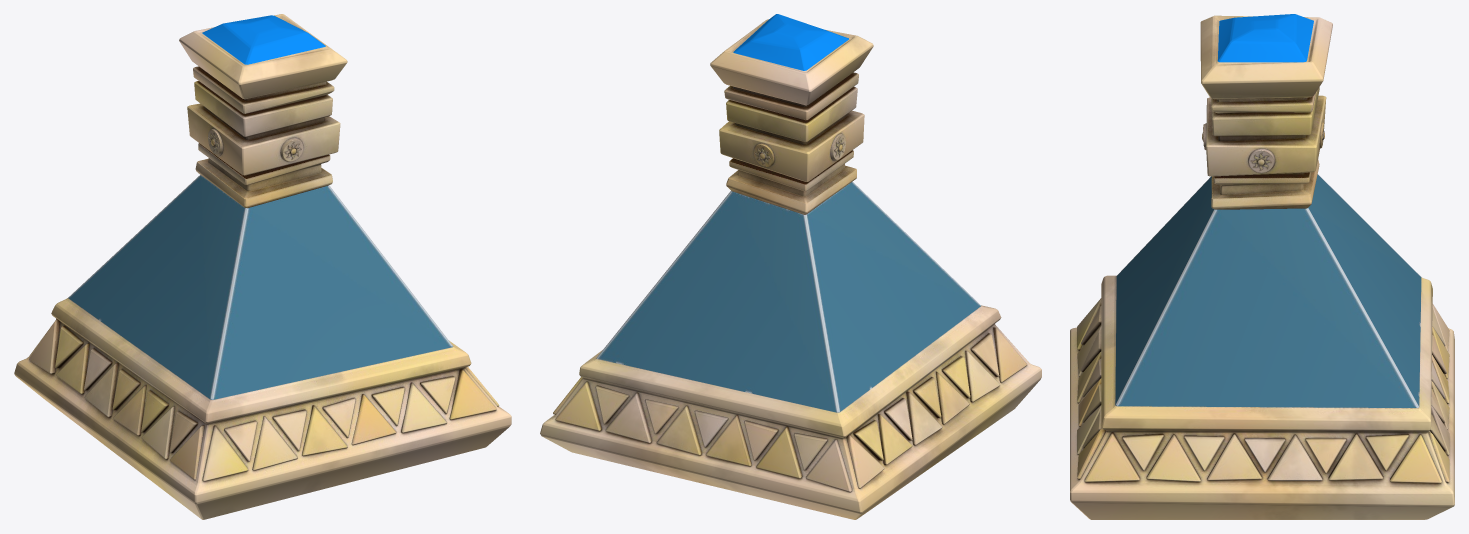
File: major_mana_potion.fbx
3 renders of one model, left to right at view 1: azimuth 30°, elevation 25°; view 2: azimuth 150°, elevation 25°; view 3: azimuth 270°, elevation 25°, orthographic. The views are drawn at different scales.
Parts seen in each view (by area): view 1: node_118a0920_bc4e_4bad_9b72_afb1c7ac4f06_mesh0, node_8bca4a89_8ba3_4b9f_9570_90b164224340_mesh0, node_1c2d6c6f_b1d6_45c7_b304_4edc50744e8e_mesh0; view 2: node_118a0920_bc4e_4bad_9b72_afb1c7ac4f06_mesh0, node_8bca4a89_8ba3_4b9f_9570_90b164224340_mesh0, node_1c2d6c6f_b1d6_45c7_b304_4edc50744e8e_mesh0; view 3: node_118a0920_bc4e_4bad_9b72_afb1c7ac4f06_mesh0, node_8bca4a89_8ba3_4b9f_9570_90b164224340_mesh0, node_1c2d6c6f_b1d6_45c7_b304_4edc50744e8e_mesh0.
Part boxes in pixels (x1,y1,x2,y2): node_118a0920_bc4e_4bad_9b72_afb1c7ac4f06_mesh0: (14,14,511,519); node_8bca4a89_8ba3_4b9f_9570_90b164224340_mesh0: (68,175,453,399); node_1c2d6c6f_b1d6_45c7_b304_4edc50744e8e_mesh0: (202,15,325,64); node_118a0920_bc4e_4bad_9b72_afb1c7ac4f06_mesh0: (540,19,1041,519); node_8bca4a89_8ba3_4b9f_9570_90b164224340_mesh0: (596,181,980,412); node_1c2d6c6f_b1d6_45c7_b304_4edc50744e8e_mesh0: (733,14,848,70); node_118a0920_bc4e_4bad_9b72_afb1c7ac4f06_mesh0: (1070,15,1454,519); node_8bca4a89_8ba3_4b9f_9570_90b164224340_mesh0: (1115,174,1421,407); node_1c2d6c6f_b1d6_45c7_b304_4edc50744e8e_mesh0: (1217,14,1313,62).
Bounding box in the file's own units: 23.59 × 28.37 × 23.15.
4 materials, 4 textured.
